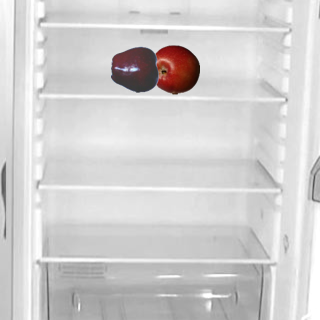Apple Braeburn: (149, 44, 199, 94)
Apple Red Delicious: (110, 44, 160, 94)
